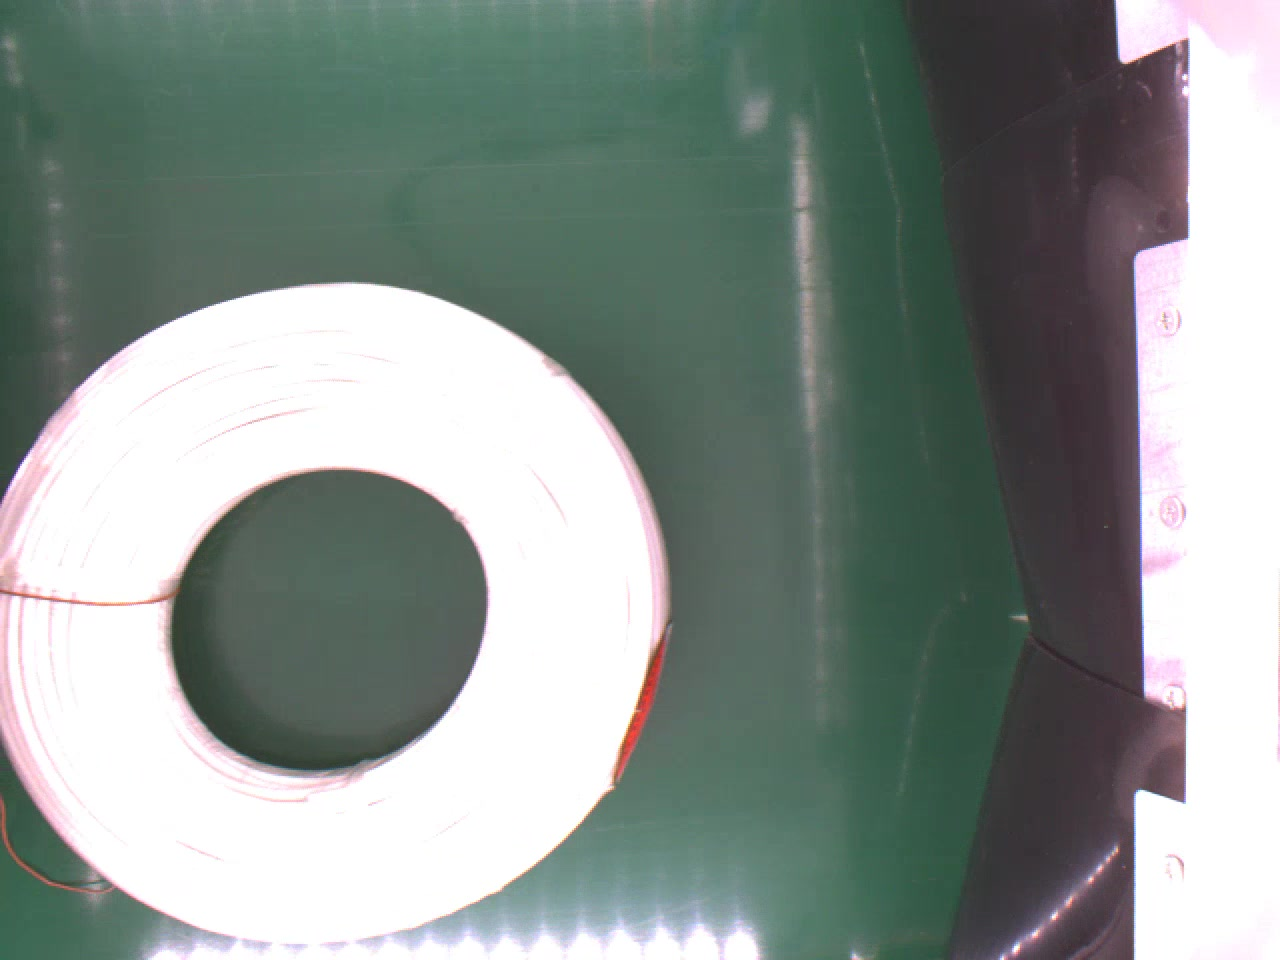white: (0, 278, 673, 947)
